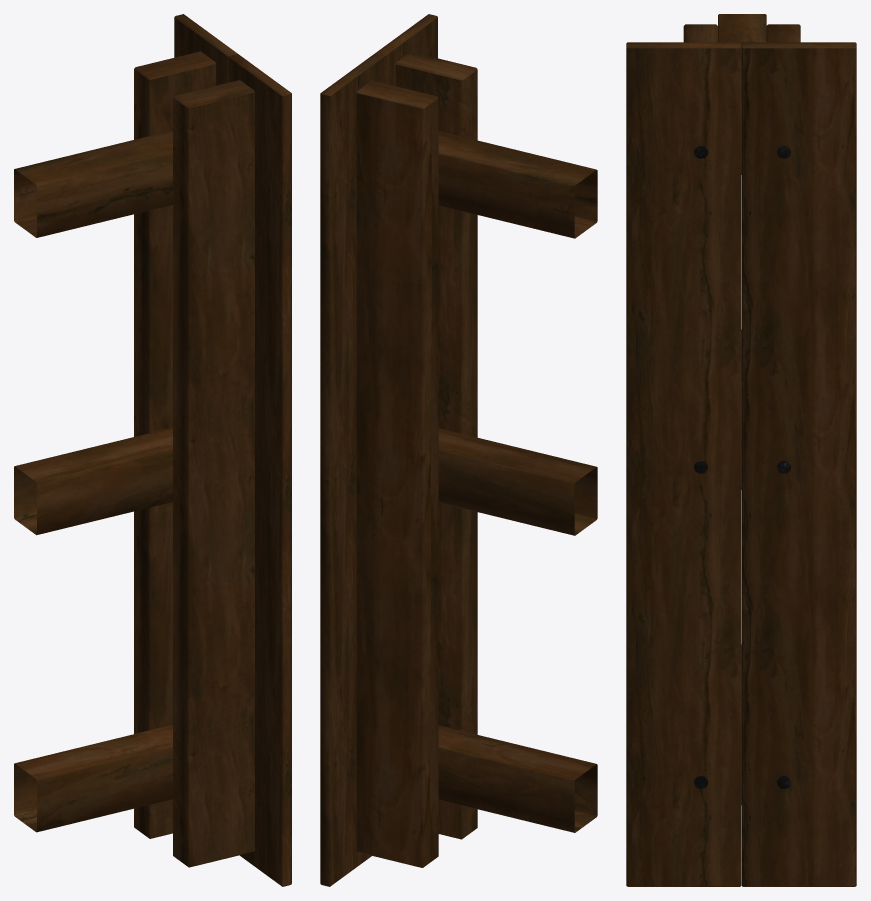
File: cP_Bench12_v02.dae
3 renders of one model, left to right at view 1: azimuth 30°, elevation 25°; view 2: azimuth 150°, elevation 25°; view 3: azimuth 270°, elevation 25°, orthographic. The views are drawn at different scales.
Visible parts, largest first — view 1: cP_Bench12_v02.001; view 2: cP_Bench12_v02.001; view 3: cP_Bench12_v02.001.
Part boxes in pixels (bbox=[...]): cP_Bench12_v02.001: bbox=[14, 14, 291, 886]; cP_Bench12_v02.001: bbox=[320, 14, 597, 886]; cP_Bench12_v02.001: bbox=[626, 14, 856, 886].
Size of the model in its own units: 0.5638 by 0.4962 by 2.
